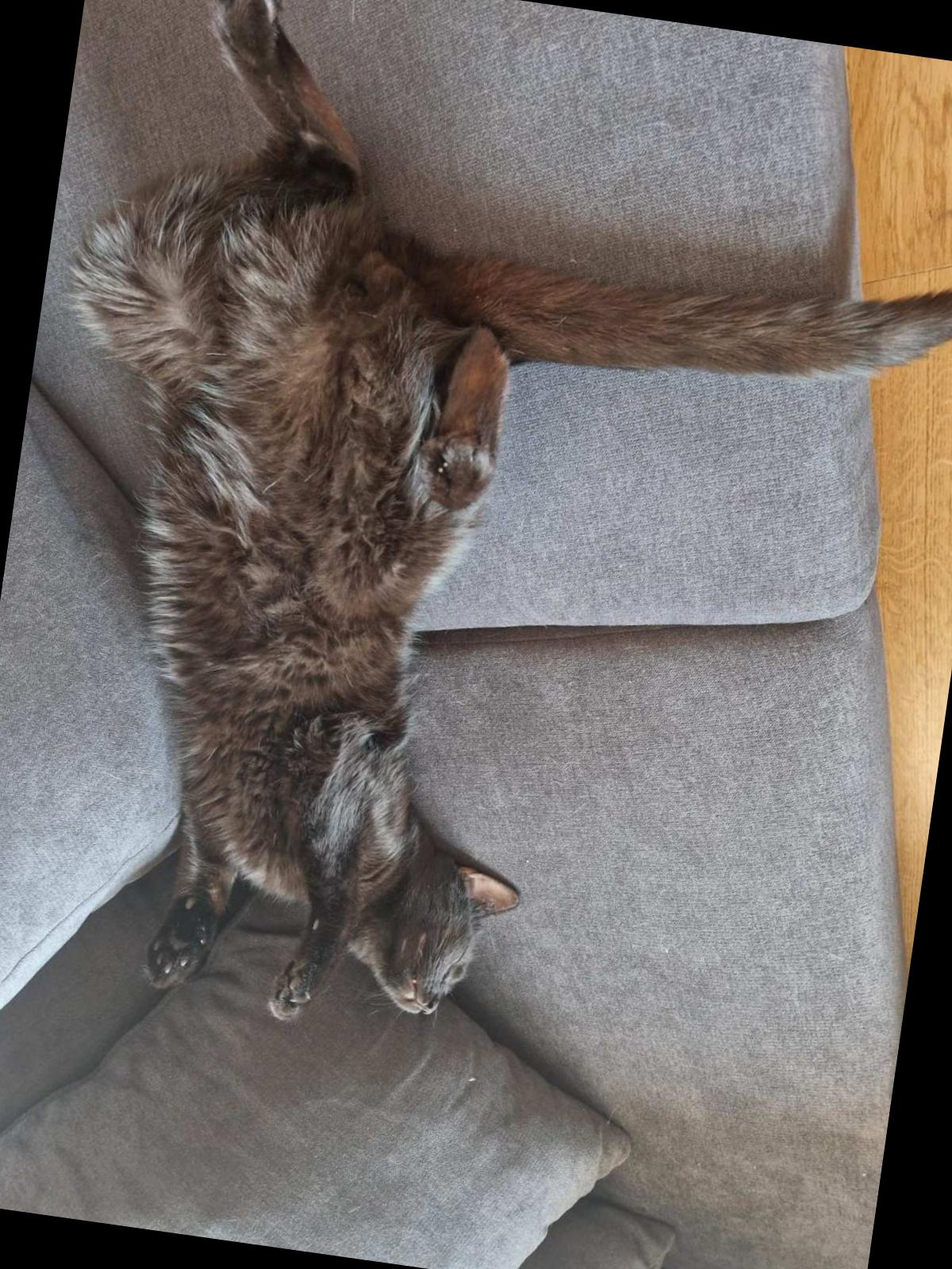macka: (0, 0, 952, 1112)
